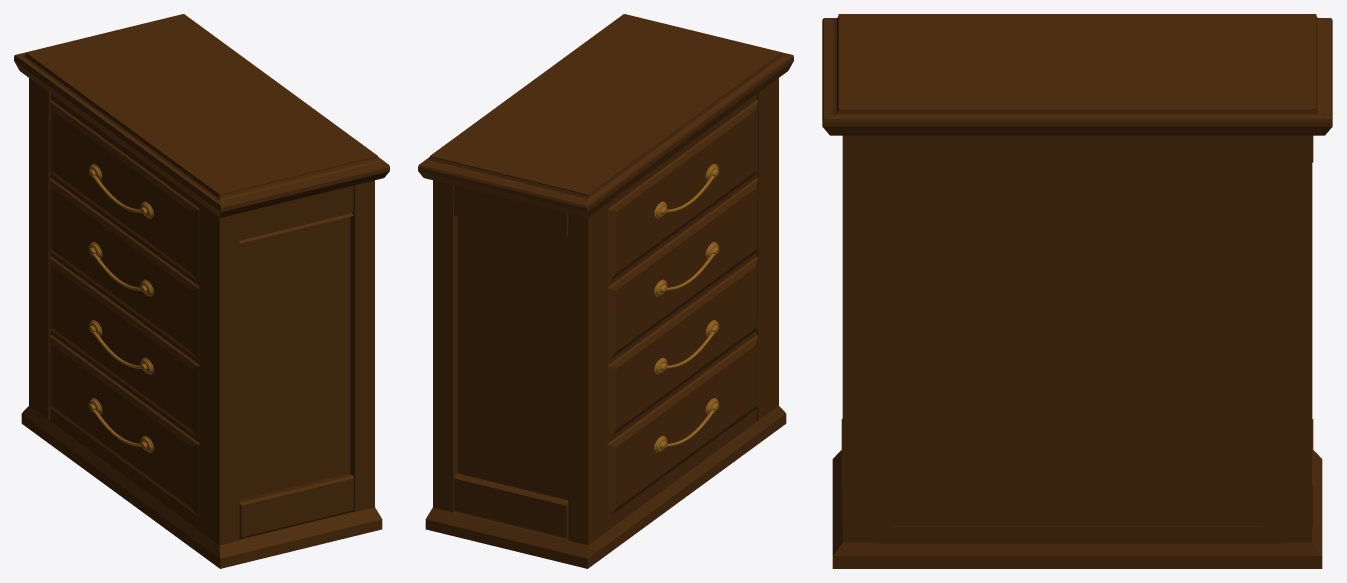
The model's file is Dresser_final.fbx.
3 views of the same model, side by side, from view 1: azimuth 30°, elevation 25°; view 2: azimuth 150°, elevation 25°; view 3: azimuth 270°, elevation 25° (orthographic). The views are drawn at different scales.
Parts seen in each view (by area): view 1: Dresser, Drawer_Low, Drawer_Low_Middle, Drawer_Top_Middle, Drawer_Top; view 2: Dresser, Drawer_Low, Drawer_Low_Middle, Drawer_Top_Middle, Drawer_Top; view 3: Dresser.
Boxes of the visible parts, bbox=[...] form: Dresser: bbox=[14, 14, 389, 568]; Drawer_Low: bbox=[49, 335, 199, 516]; Drawer_Low_Middle: bbox=[49, 256, 199, 437]; Drawer_Top_Middle: bbox=[49, 178, 199, 359]; Drawer_Top: bbox=[49, 100, 199, 281]; Dresser: bbox=[418, 14, 793, 568]; Drawer_Low: bbox=[607, 335, 758, 516]; Drawer_Low_Middle: bbox=[608, 256, 758, 438]; Drawer_Top_Middle: bbox=[608, 178, 758, 359]; Drawer_Top: bbox=[608, 100, 758, 281]; Dresser: bbox=[822, 14, 1332, 568].
Bounding box in the file's own units: 280 × 585 × 590.
